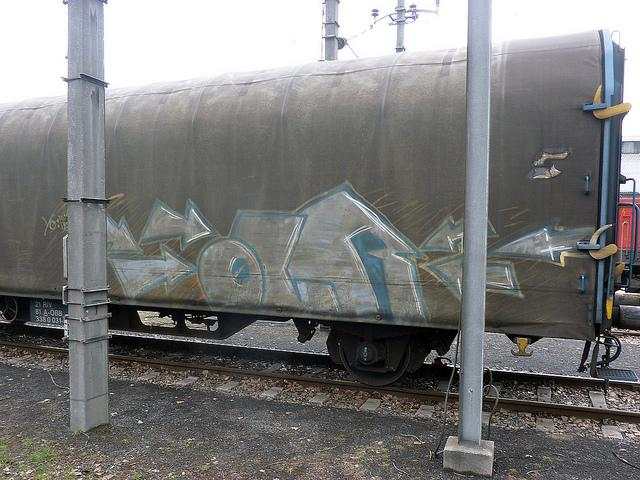Train: (0, 34, 629, 389)
